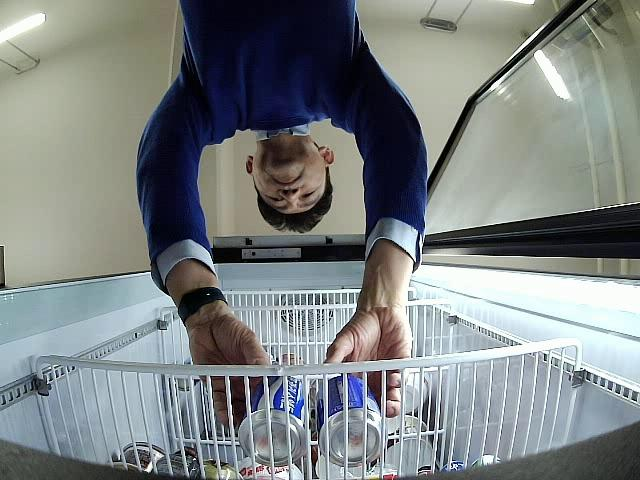00_hand: (322, 300, 412, 418), (185, 313, 272, 429)
13_pocariSweat: (317, 375, 385, 467), (238, 377, 306, 467)
